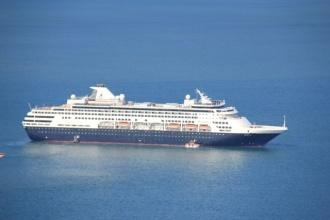youlun: (24, 82, 286, 146)
